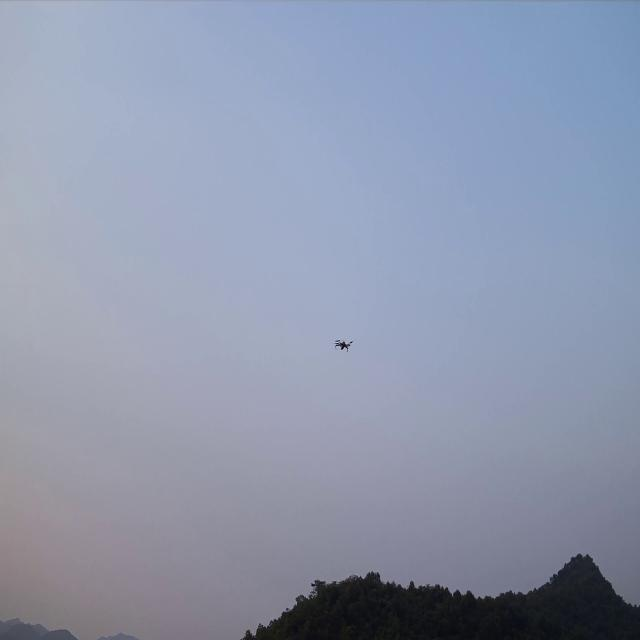UAV: (331, 336, 354, 354)
